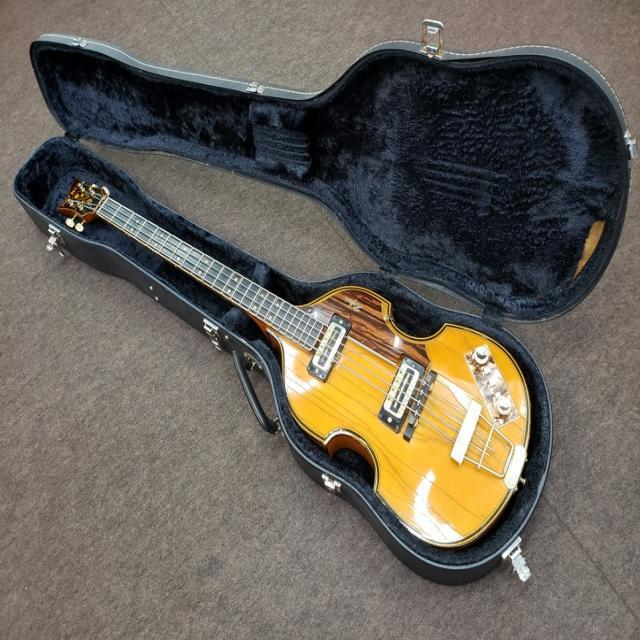bass: (59, 180, 529, 546)
